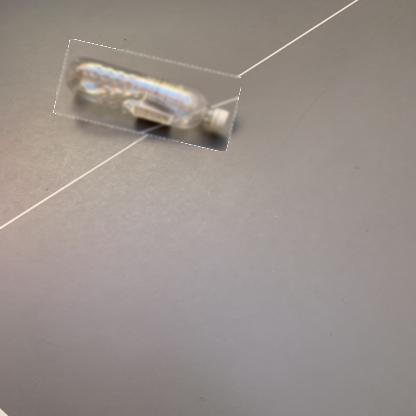plastic-bottles: (57, 50, 240, 144)
